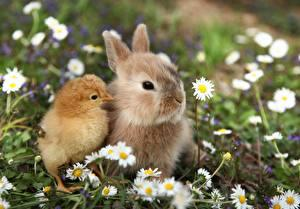chamomile: (104, 147, 138, 166), (234, 187, 258, 209), (191, 80, 215, 101), (159, 182, 184, 198), (270, 196, 300, 209), (68, 162, 87, 181), (136, 166, 159, 181)
